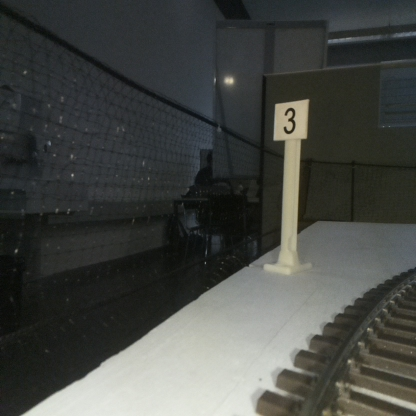white-info-3: (274, 100, 308, 269)
